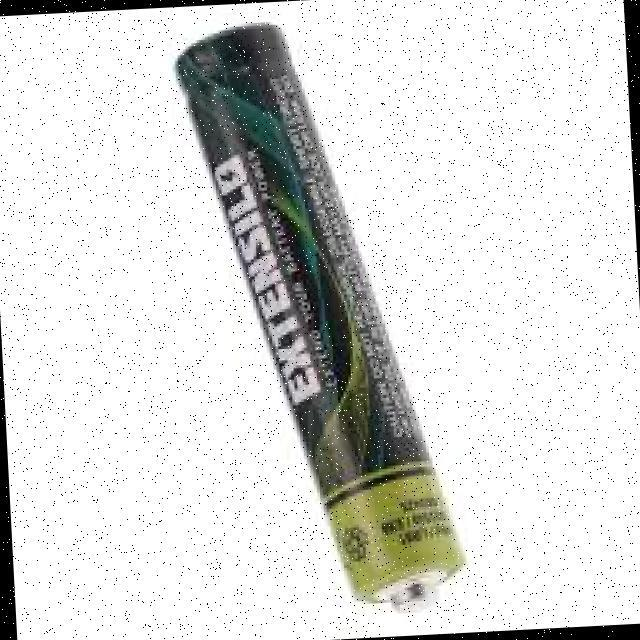AAA: (174, 22, 468, 605)
